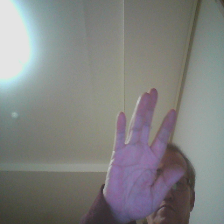hand: (99, 78, 185, 224)
